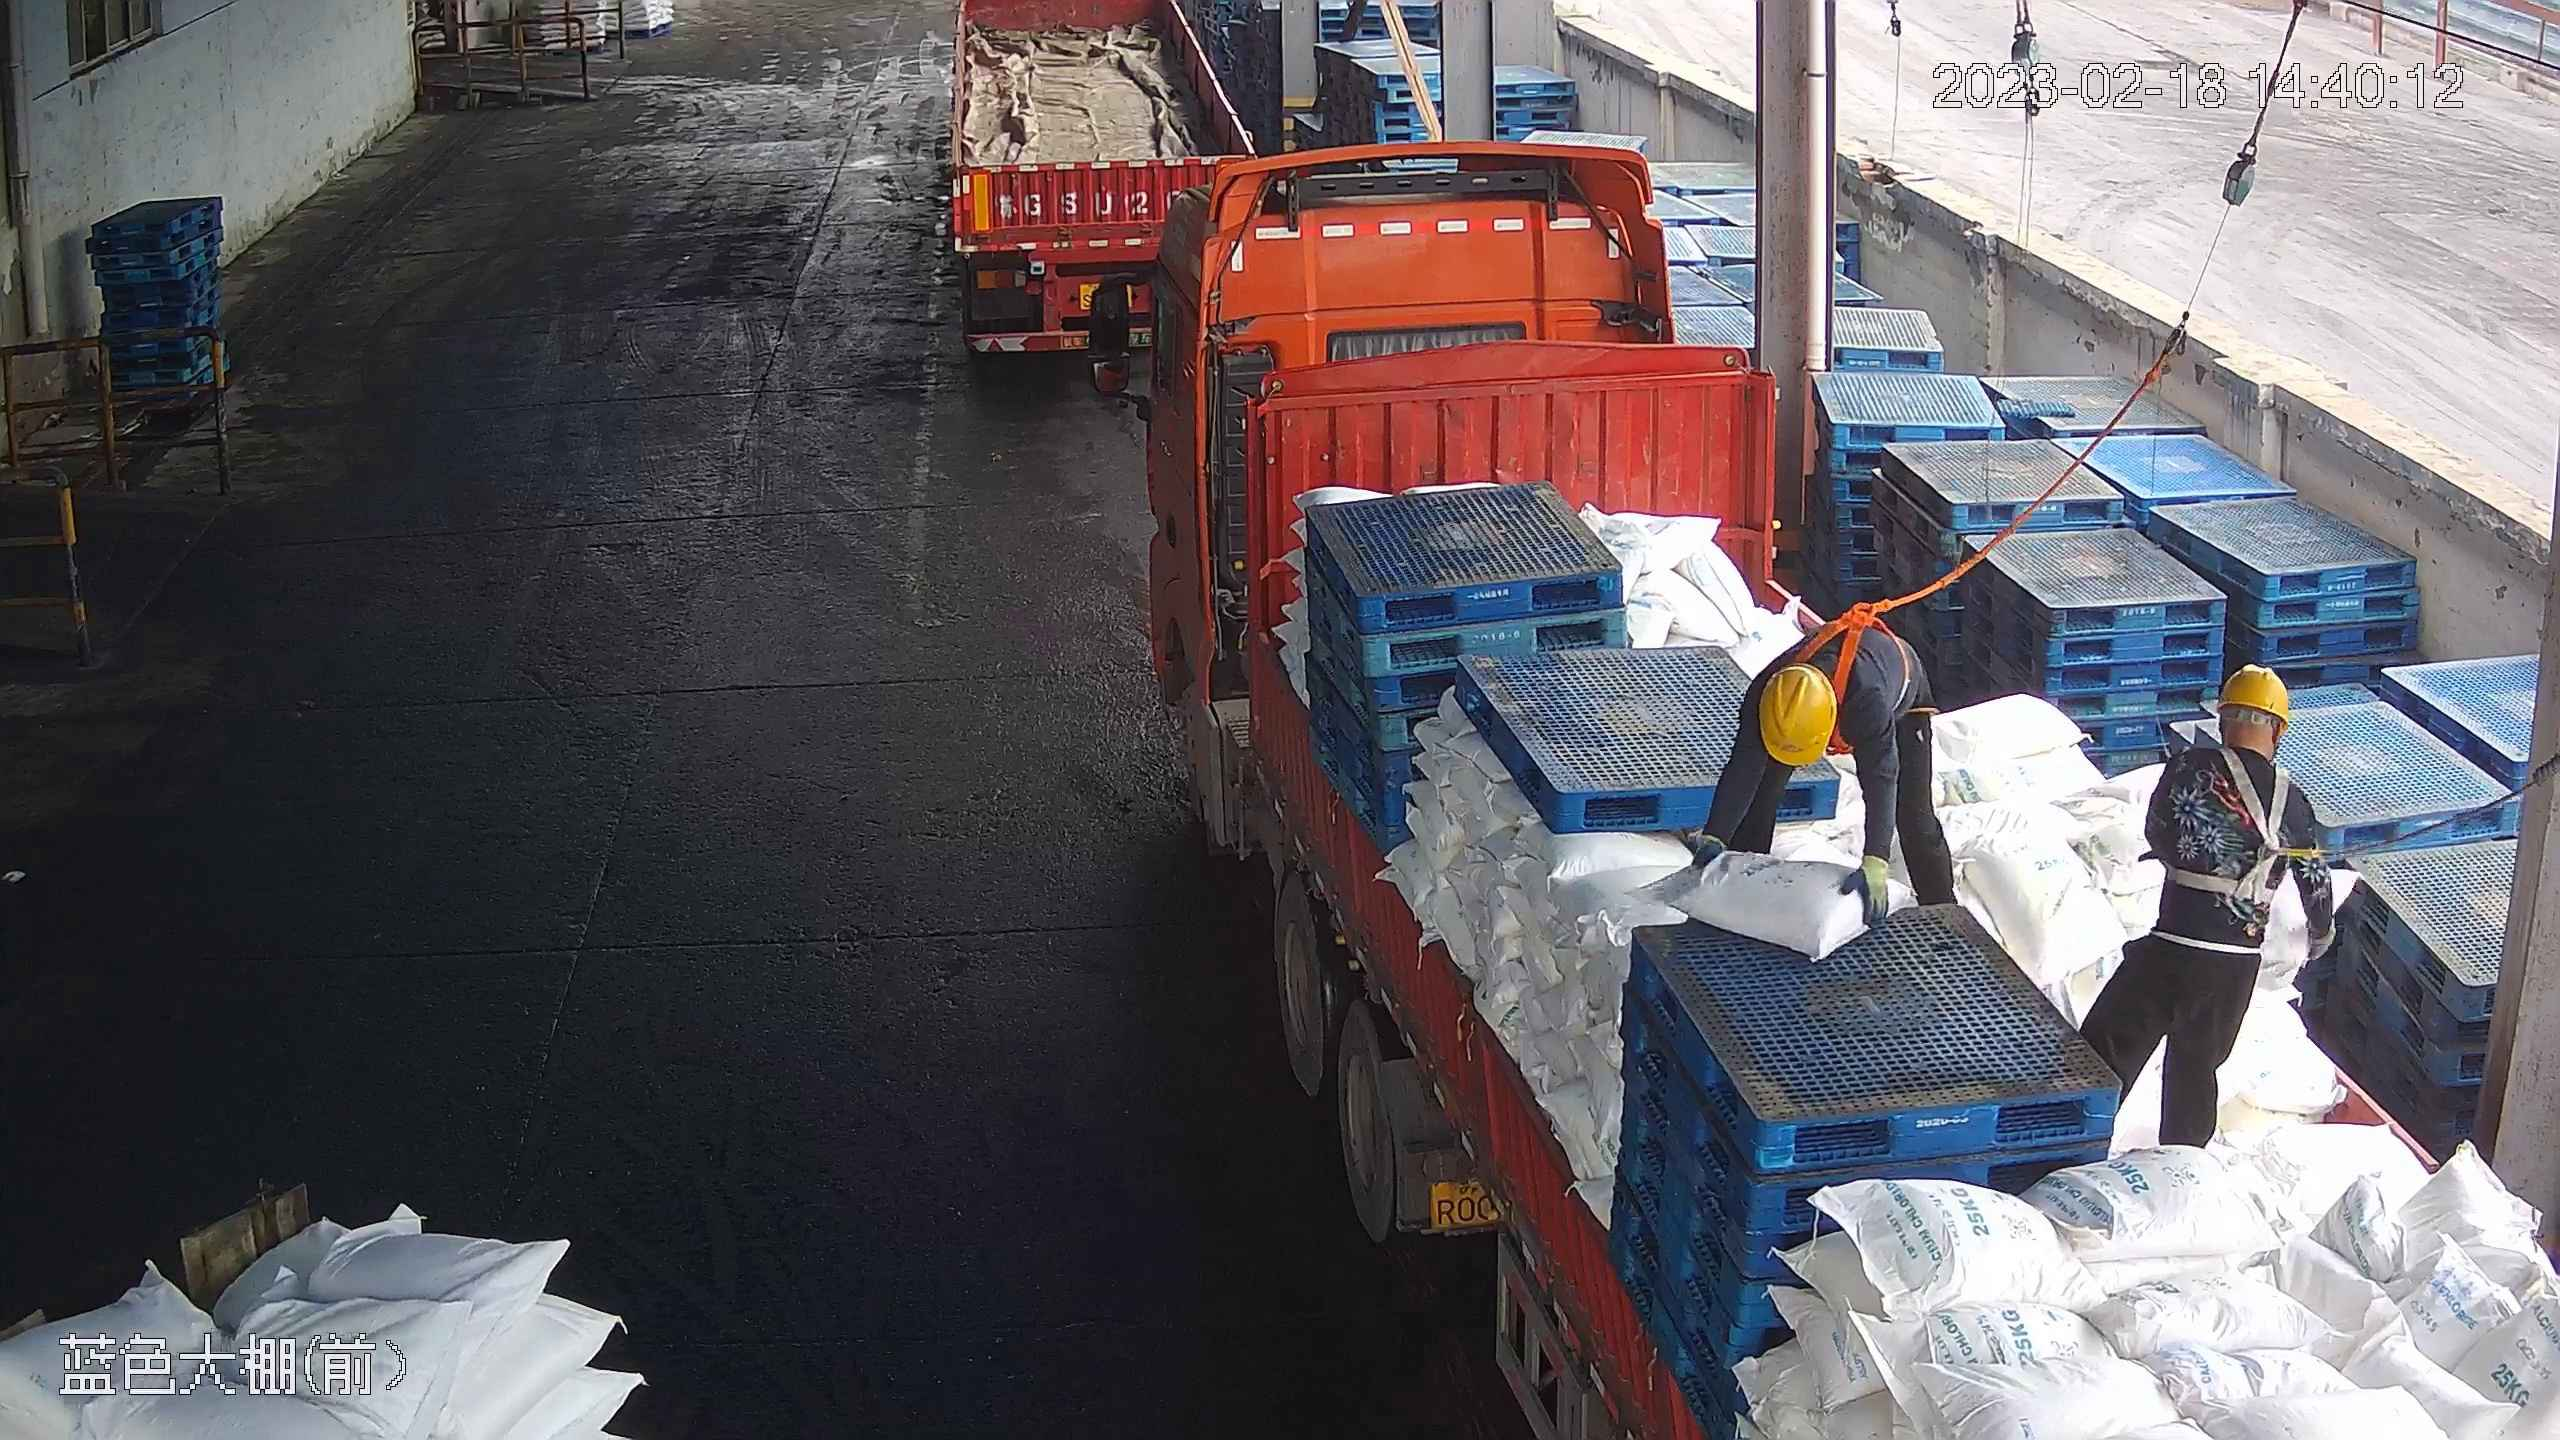belt: (2166, 748, 2322, 923), (1800, 594, 1913, 725)
head: (2154, 660, 2321, 817), (1737, 635, 1906, 780), (1753, 658, 1846, 767)
helmet: (2152, 658, 2321, 814), (1754, 663, 1836, 764), (2214, 660, 2292, 729)
people: (1118, 164, 2554, 1434), (2070, 656, 2324, 1164), (1685, 615, 1957, 930)
truck: (1099, 148, 2560, 1440), (953, 3, 1258, 374)
